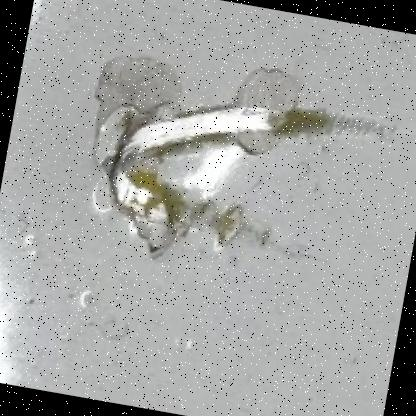Crack: (2, 0, 414, 361)
